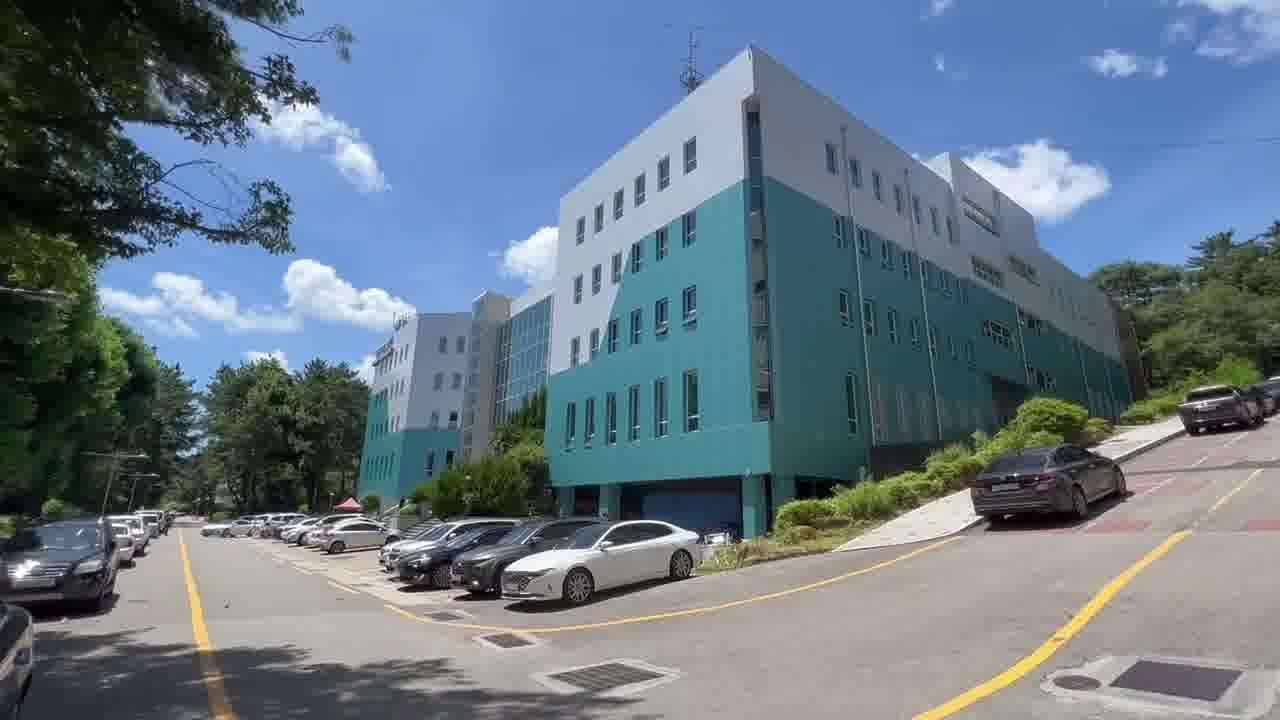building: (353, 84, 1014, 446)
